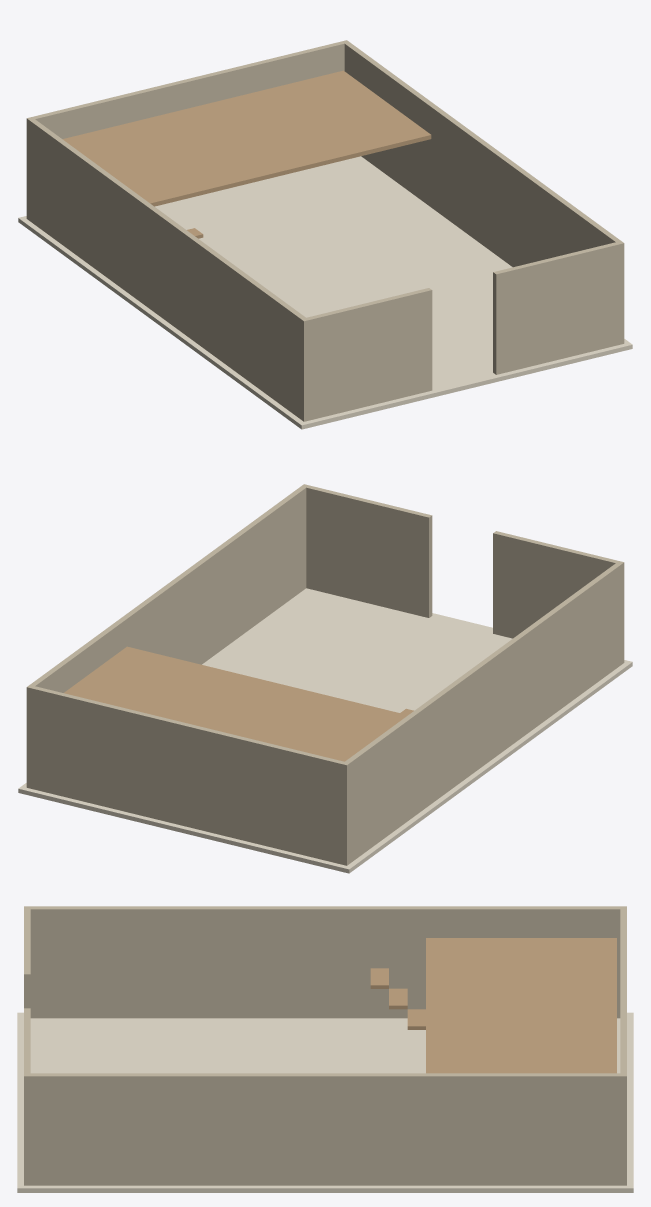
Rendered from the-barn.glb.
3 renders of one model, top to bottom at view 1: azimuth 30°, elevation 25°; view 2: azimuth 150°, elevation 25°; view 3: azimuth 270°, elevation 25°, orthographic. The views are drawn at different scales.
Visible parts, largest first — view 1: board and batten, stone, timber; view 2: board and batten, stone, timber; view 3: board and batten, stone, timber.
Boxes of the visible parts, x1=… form: board and batten: x1=26, y1=40, x2=624, y2=421; stone: x1=18, y1=156, x2=632, y2=429; timber: x1=62, y1=70, x2=431, y2=238; board and batten: x1=26, y1=484, x2=624, y2=865; stone: x1=18, y1=588, x2=632, y2=873; timber: x1=64, y1=646, x2=413, y2=761; board and batten: x1=24, y1=906, x2=626, y2=1185; stone: x1=17, y1=1012, x2=633, y2=1192; timber: x1=370, y1=938, x2=616, y2=1073.
Bounding box in the file's own units: 12.6 × 5.95 × 18.6.
